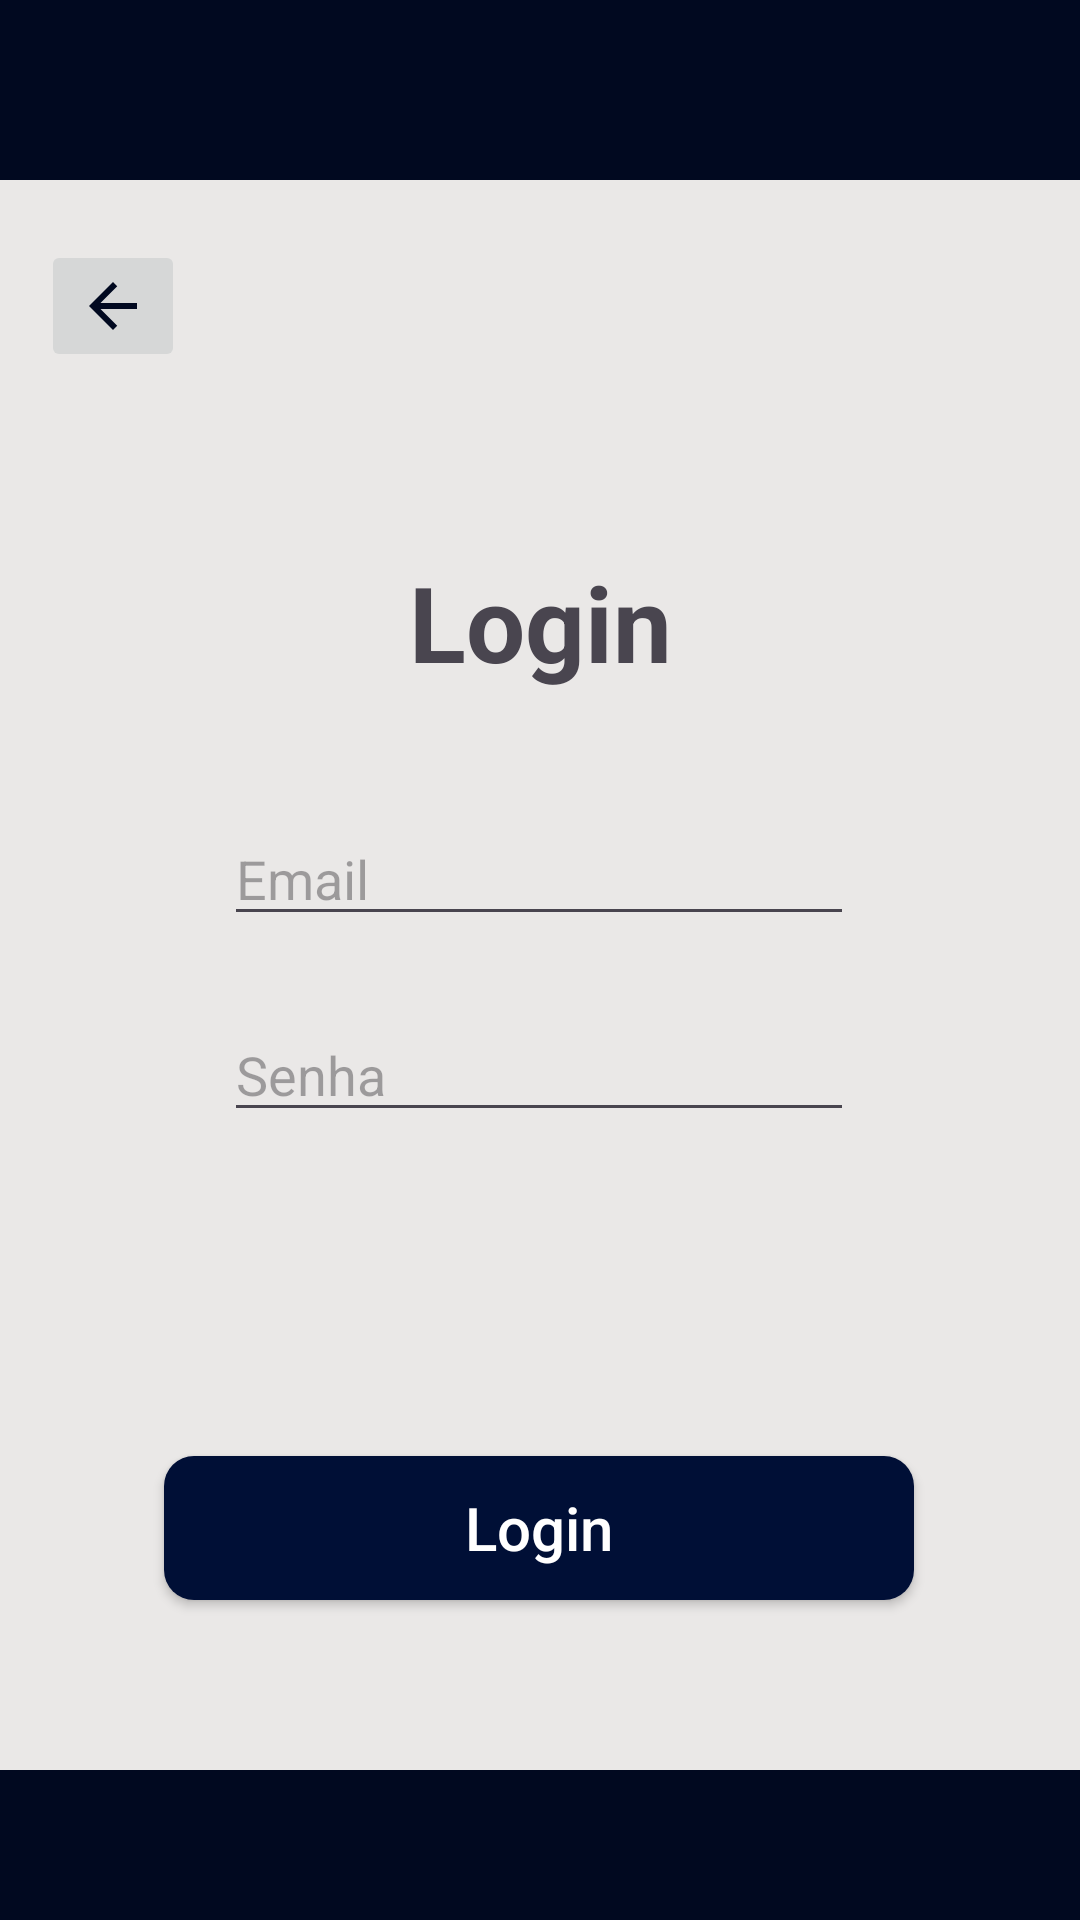

Icons on this 1080 × 1920 Android screen, each with its box as (x1, y1, x2, y2):
arrow back: (53, 258, 173, 354)
